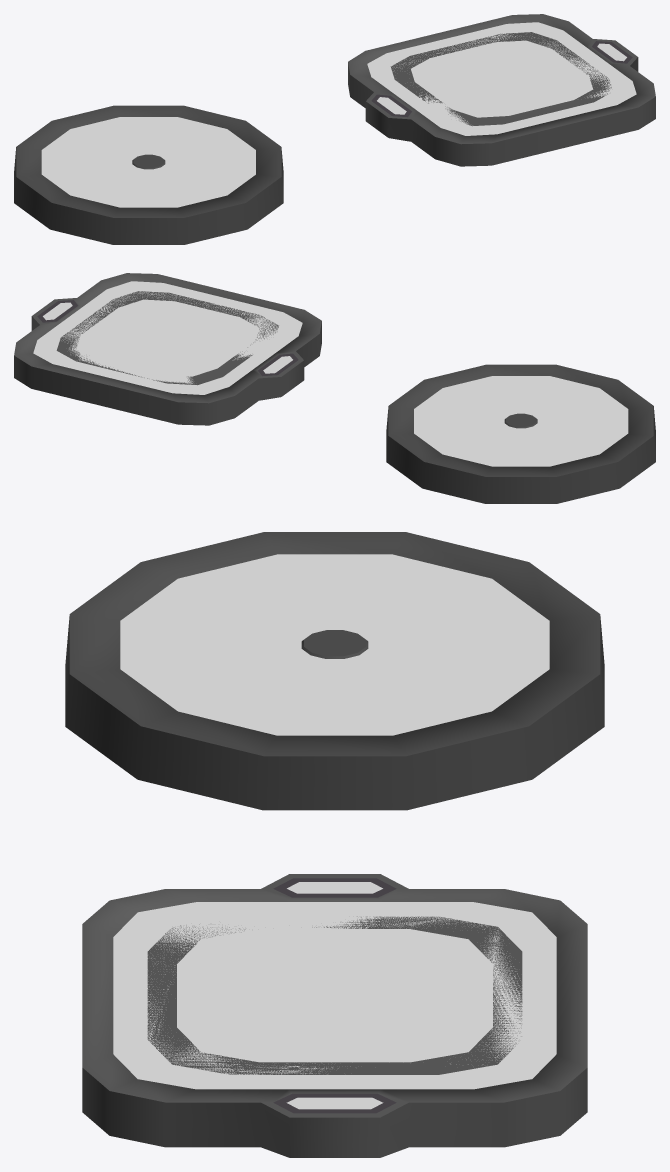
Rendered from Vent&Scrubber.fbx.
The picture shows the model from 3 angles, top to bottom: view 1: azimuth 30°, elevation 25°; view 2: azimuth 150°, elevation 25°; view 3: azimuth 270°, elevation 25°; orthographic projection. The views are drawn at different scales.
Parts seen in each view (by area): view 1: FloorVent, FloorVentCutout, FloorScrubber, FloorScrubberCutout; view 2: FloorVentCutout, FloorVent, FloorScrubber, FloorScrubberCutout; view 3: FloorVentCutout, FloorVent, FloorScrubber, FloorScrubberCutout.
Boxes of the visible parts, x1,y1,x2,y2 form: FloorVent: [348, 14, 655, 166]; FloorVentCutout: [367, 22, 636, 135]; FloorScrubber: [14, 105, 283, 244]; FloorScrubberCutout: [41, 117, 255, 207]; FloorVentCutout: [33, 281, 302, 394]; FloorVent: [14, 273, 321, 425]; FloorScrubber: [386, 364, 655, 503]; FloorScrubberCutout: [414, 376, 628, 466]; FloorVentCutout: [113, 902, 556, 1089]; FloorVent: [82, 874, 587, 1157]; FloorScrubber: [65, 532, 604, 810]; FloorScrubberCutout: [120, 554, 549, 735].
Size of the model in its own units: 1.68 by 0.0762 by 0.6614.
